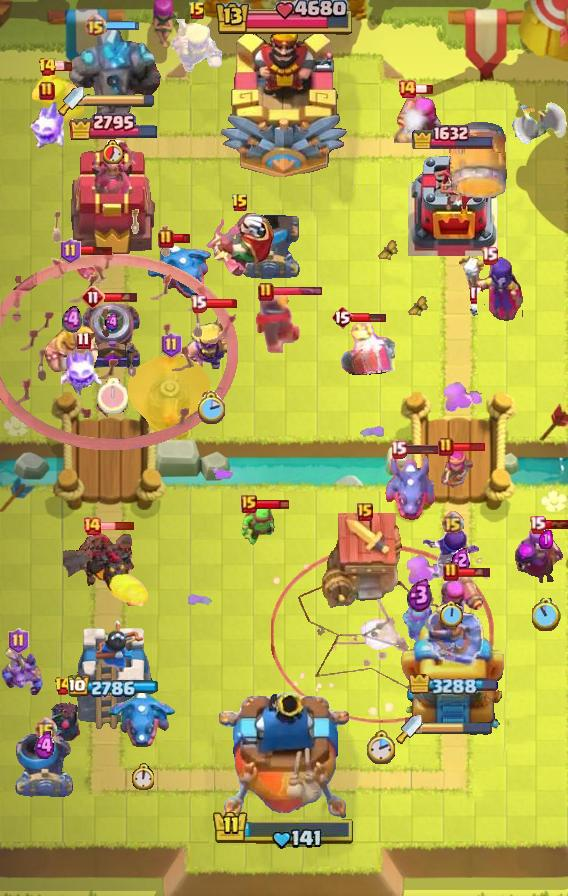archer: (436, 448, 474, 492)
axe: (512, 89, 568, 147)
bar: (271, 286, 323, 297), (255, 498, 290, 511), (404, 443, 440, 455), (457, 566, 492, 578), (452, 441, 487, 453), (104, 291, 139, 303), (351, 312, 387, 323), (78, 245, 114, 256), (105, 20, 140, 31), (204, 298, 238, 309), (100, 521, 135, 531), (543, 519, 568, 530), (414, 83, 434, 95), (172, 233, 191, 244), (54, 61, 73, 72)
bar-level: (81, 285, 105, 309), (8, 628, 29, 654), (161, 332, 182, 358), (60, 238, 81, 264), (34, 717, 57, 740), (441, 511, 464, 534), (84, 14, 107, 37), (331, 305, 353, 329), (82, 516, 102, 536), (397, 79, 417, 99), (54, 676, 73, 696), (38, 57, 57, 77), (231, 193, 249, 213), (188, 1, 206, 21), (529, 515, 546, 534), (390, 440, 407, 459), (190, 294, 207, 313), (481, 246, 498, 265), (443, 562, 459, 582), (438, 437, 454, 457), (258, 282, 274, 302), (158, 229, 174, 249), (39, 81, 55, 101), (357, 503, 373, 521), (241, 495, 257, 513), (76, 331, 91, 350)
barbarian-evolution: (181, 309, 239, 375), (169, 19, 225, 76)
bat: (75, 254, 99, 282)
bomber-evolution: (422, 525, 482, 581)
clock: (97, 378, 128, 414), (367, 730, 397, 766), (532, 598, 561, 631), (196, 391, 225, 424), (440, 601, 464, 629), (131, 763, 154, 790), (103, 140, 124, 164)
dagger-duchess-tower: (398, 595, 508, 731), (70, 138, 158, 256)
dagger-duchess-tower-bar: (84, 93, 156, 107), (422, 722, 492, 736)
electro-dragon: (106, 687, 178, 749), (145, 241, 213, 301), (383, 450, 437, 522)
elite-barbarian: (43, 321, 101, 373)
elixir: (407, 578, 433, 612), (34, 731, 56, 761), (62, 305, 82, 335), (451, 547, 470, 574), (104, 313, 121, 331), (539, 530, 553, 549)
firecracker: (394, 89, 444, 143), (436, 570, 485, 622)
goblin-brawler: (28, 69, 88, 125)
ice-spirit-evolution: (61, 342, 105, 396), (27, 99, 67, 151)
king-tower: (219, 23, 349, 181), (219, 692, 349, 826)
king-tower-bar: (212, 809, 356, 851), (213, 0, 355, 38)
knight: (254, 295, 301, 353)
mini-pekka: (43, 699, 83, 751)
minion: (0, 642, 44, 698)
mortar: (15, 733, 75, 797), (240, 215, 300, 279)
mortar-evolution: (80, 301, 144, 371)
mother-witch: (514, 523, 568, 583)
queen-tower: (70, 616, 158, 731), (408, 152, 498, 256)
royal-ghost: (325, 322, 395, 380)
spear-goblin: (239, 506, 281, 552), (400, 602, 440, 644)
tower-bar: (68, 111, 160, 140), (411, 122, 496, 149), (409, 674, 498, 698), (68, 676, 160, 699)
witch: (455, 254, 523, 322)
